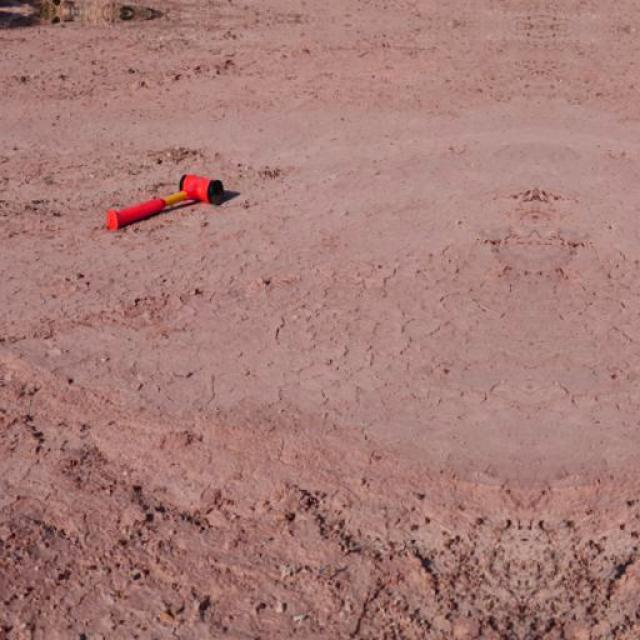mallet: (104, 171, 224, 231)
